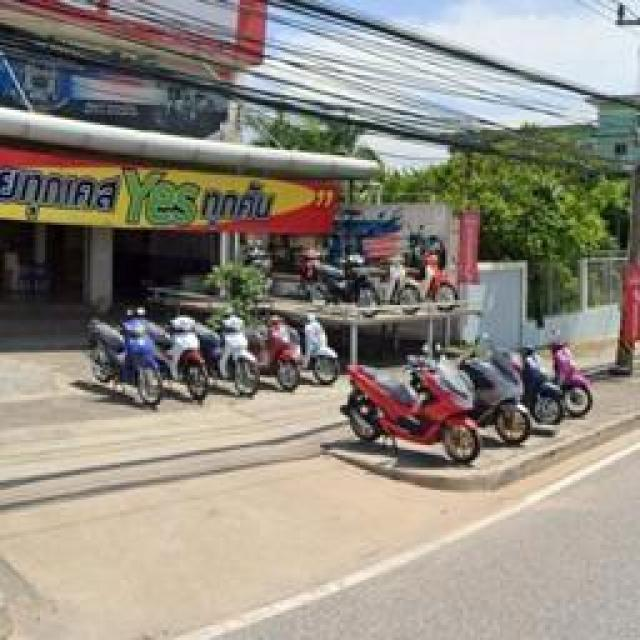motorbike: (330, 365, 475, 477), (82, 312, 165, 415), (476, 345, 526, 448), (163, 313, 215, 405), (297, 305, 350, 392), (252, 313, 300, 392), (216, 313, 256, 395), (532, 345, 562, 447), (555, 343, 597, 415)
